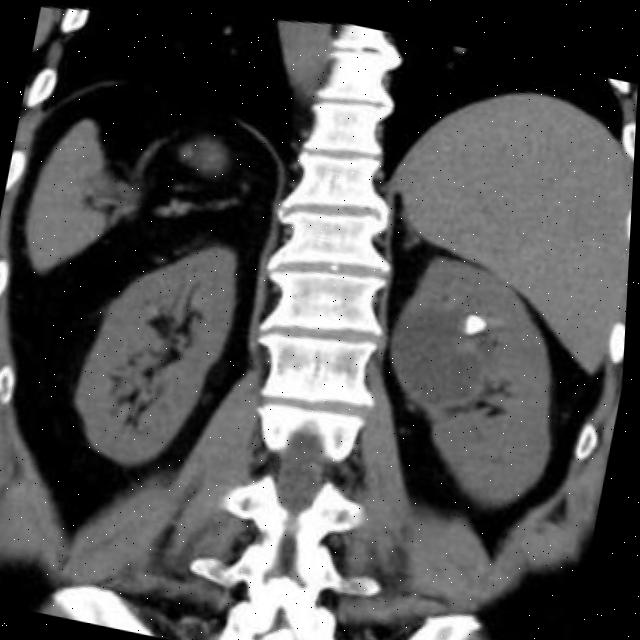Tas_Var: (462, 298, 499, 336)
